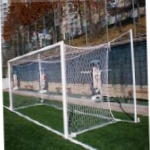goals: (5, 39, 117, 140)
